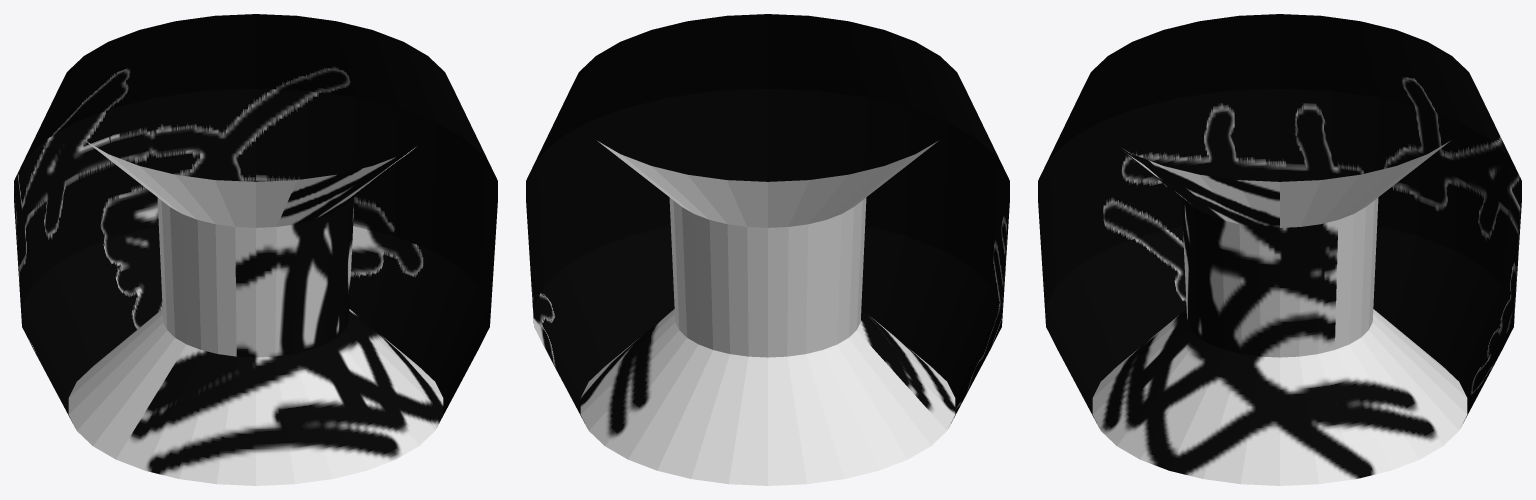
3 renders of one model, left to right at view 1: azimuth 30°, elevation 25°; view 2: azimuth 150°, elevation 25°; view 3: azimuth 270°, elevation 25°, orthographic.
Visible parts, largest first — view 1: algeomath; view 2: algeomath; view 3: algeomath.
Boxes of the visible parts, bbox=[...] form: algeomath: bbox=[14, 14, 497, 485]; algeomath: bbox=[526, 14, 1009, 485]; algeomath: bbox=[1038, 14, 1521, 485].
Size of the model in its own units: 9.98 by 6.98 by 9.93.
1 material, 1 textured.
